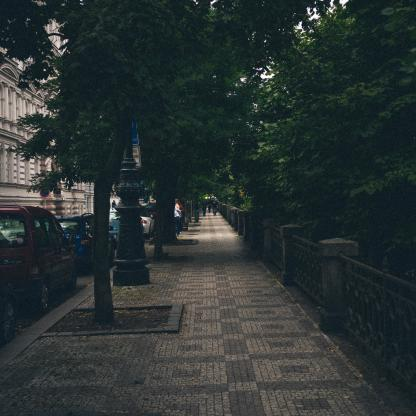Car: (0, 203, 153, 339)
